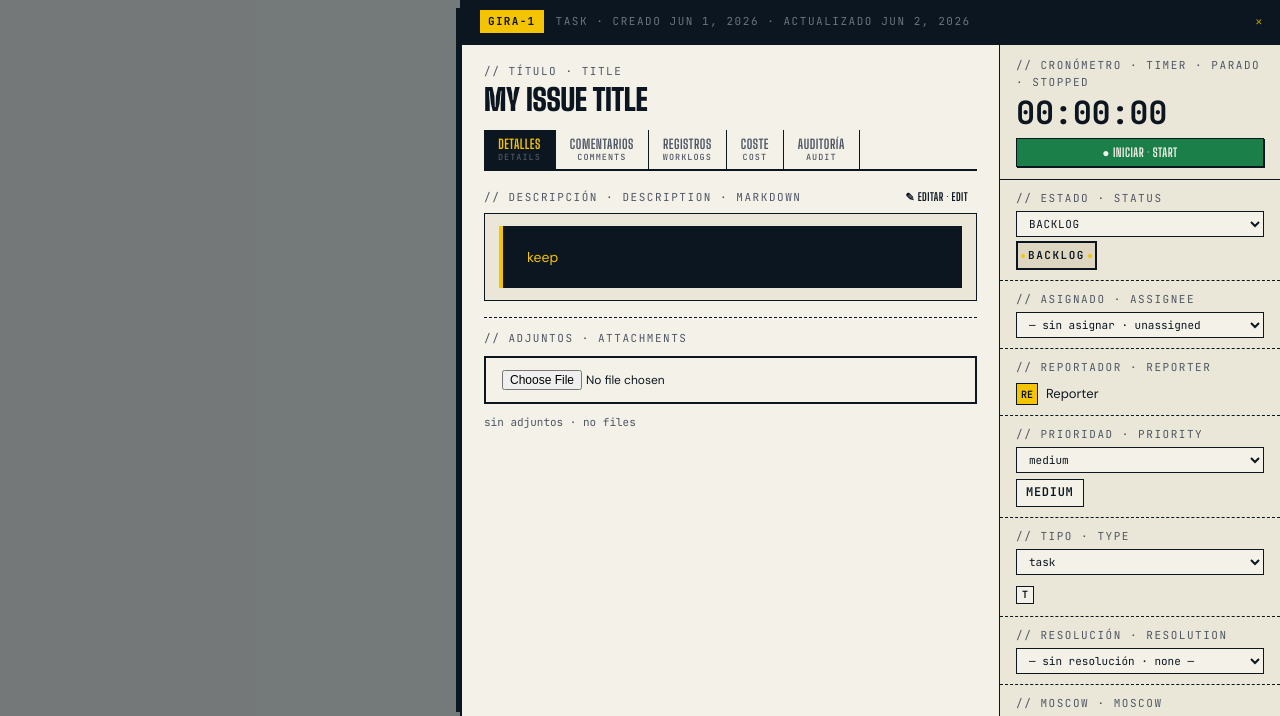
Scenario: IssueDrawer › closes the description editor on Escape
The image size is (1280, 716).
expect the text "keep" is shown: met, box [499, 226, 962, 288]
Click the button "✎ Editar · Edit" at [937, 197], box [896, 187, 977, 207]
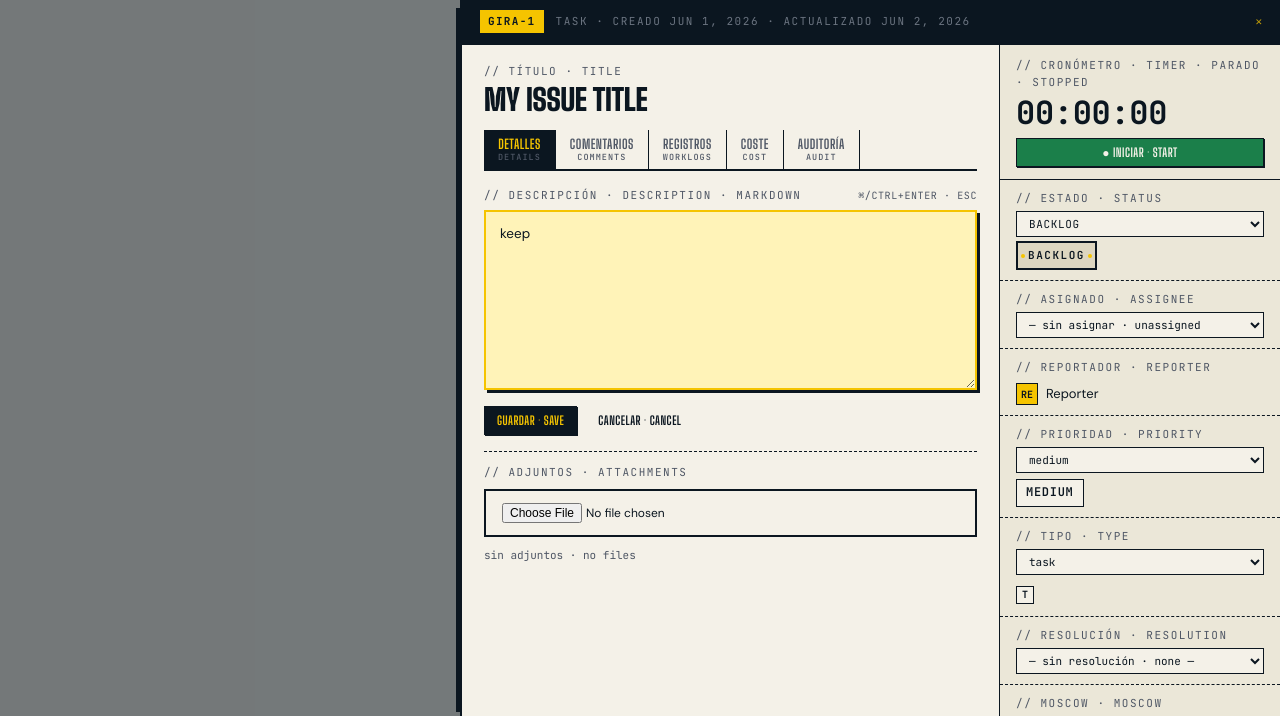
Type "X" into the text box with placeholder "Escribe una descripción… · Write a description… (markdown)" at [730, 300], box [484, 210, 977, 390]
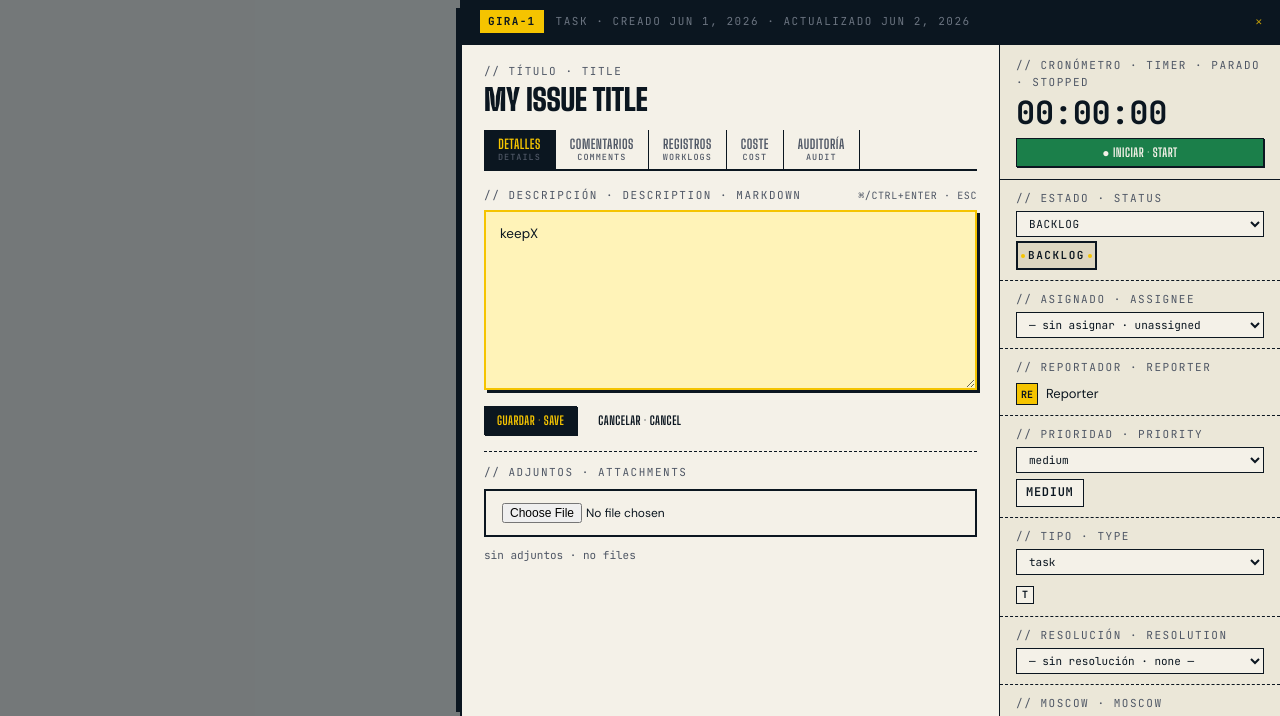
Press Escape
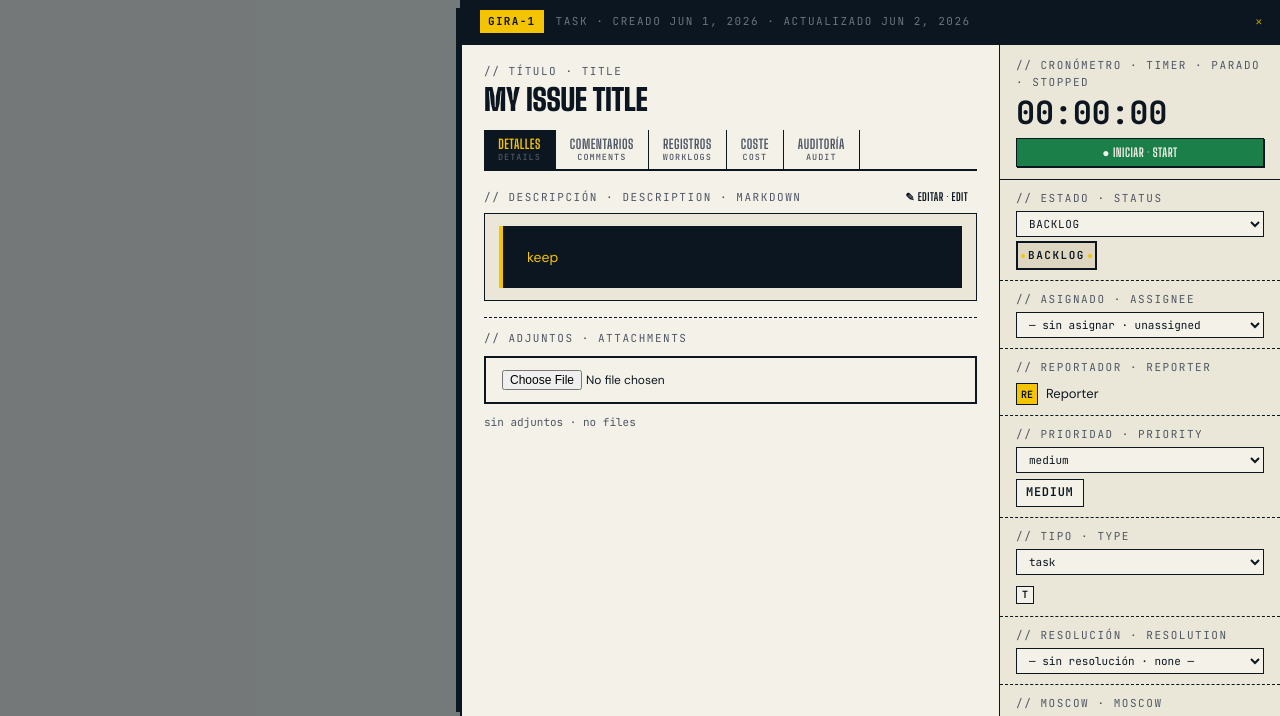
expect the text "keep" is shown: met, box [499, 226, 962, 288]
